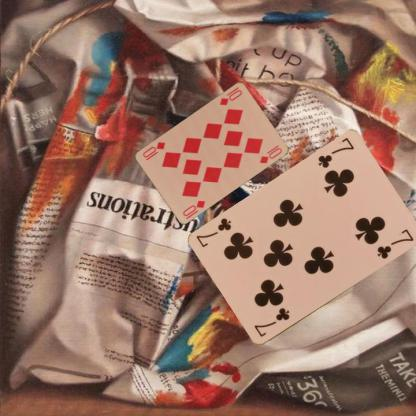10d: (217, 84, 243, 106), (180, 198, 206, 217)
7c: (315, 135, 355, 170), (251, 305, 292, 339)
